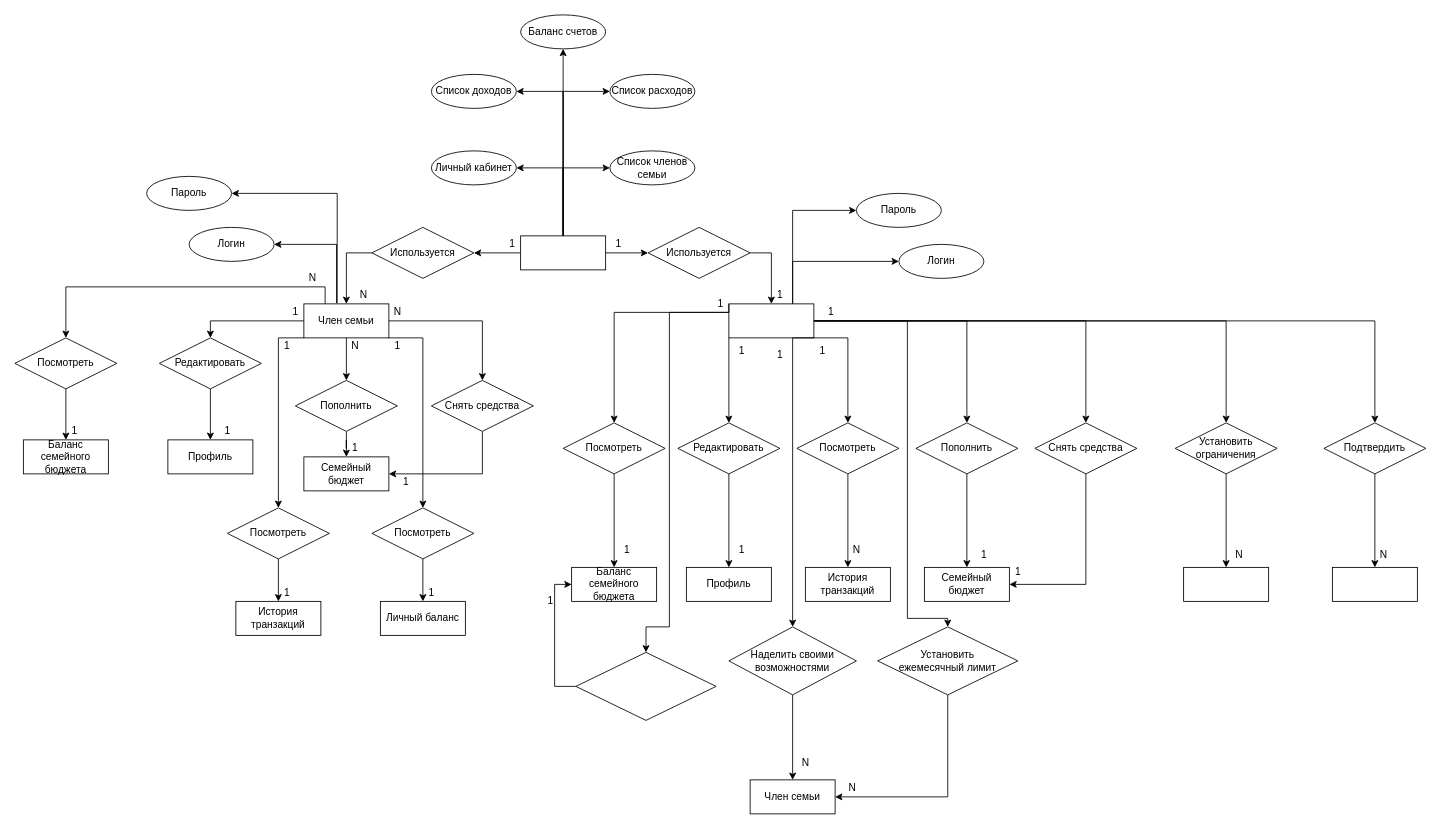
The diagram is 1441 pixels wide and 829 high, and some of its shapes have lost their labels. The shapes that lost their labels are listed below. From the top down, each one's centre as x and y in pixels, then its label:
At (563,252): "Менеджер семейного бюджета".
At (771,320): "Глава семейства".
At (1226,584): "Статья расходов".
At (1374,584): "Транзакция".
At (645,686): "Установить неприкосновенную сумму средств".
